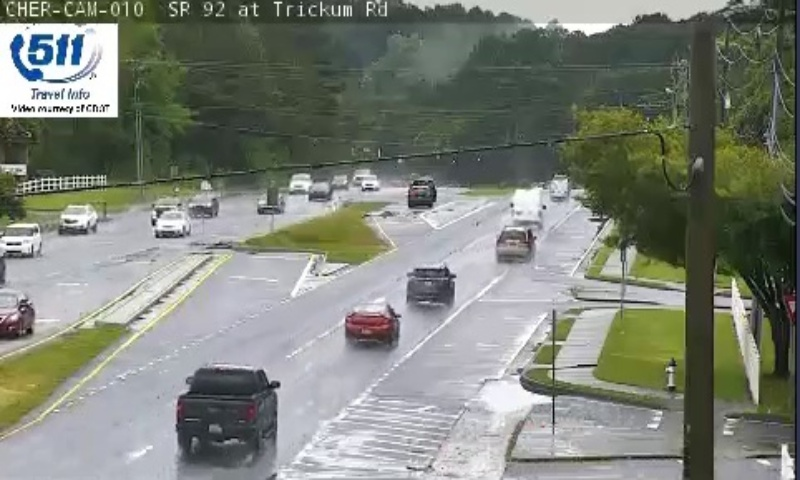car: (175, 366, 277, 438), (345, 304, 398, 341), (406, 265, 454, 303), (496, 227, 534, 261)
van: (511, 187, 541, 225)
